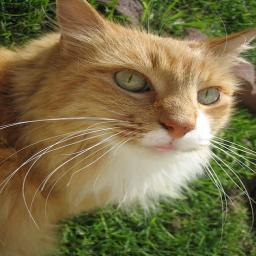catnose: (160, 117, 196, 140)
